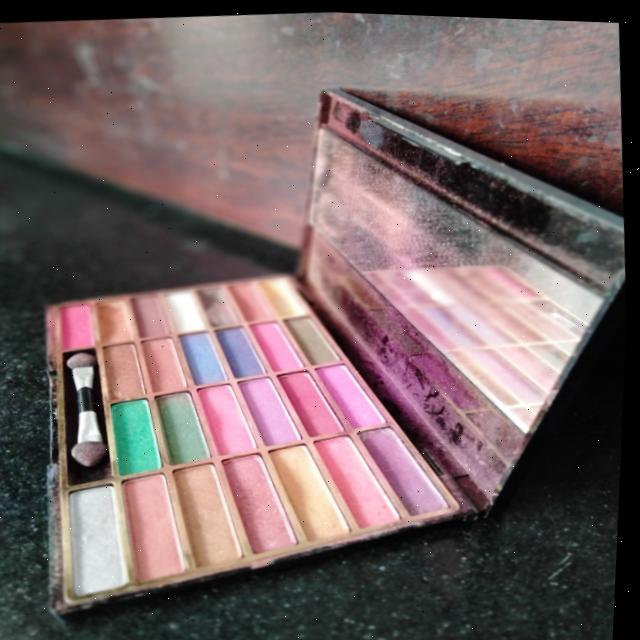eye shade: (37, 251, 470, 592)
